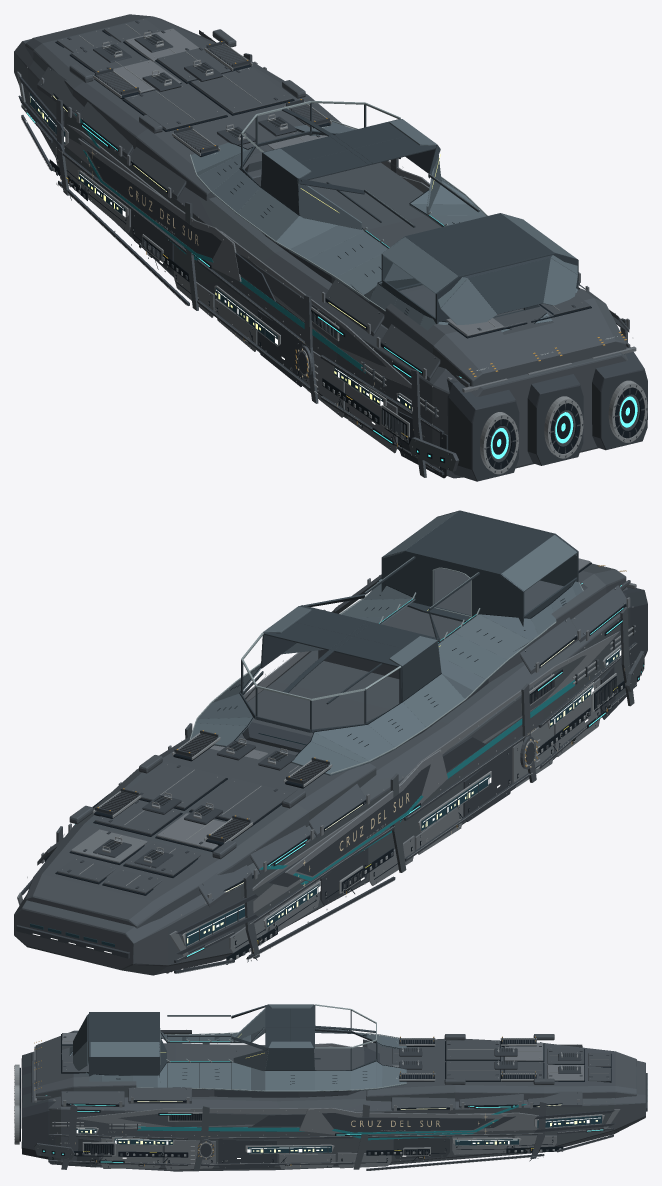
Rendered from cruz-del-sur-vestibule-envelope.glb.
3 renders of one model, top to bottom at view 1: azimuth 30°, elevation 25°; view 2: azimuth 150°, elevation 25°; view 3: azimuth 270°, elevation 25°, orthographic. The views are drawn at different scales.
Visible parts, largest first — view 1: UNIFIED_RUNTIME_lower-hull_SHIP_GAME_CDS_Ceramic graphite.00, UNIFIED_RUNTIME_lower-hull_SHIP_GAME_CDS_Dark armor.002, UNIFIED_RUNTIME_lower-hull_SHIP_GAME_CDS_Titanium armor.002, UNIFIED_RUNTIME_bridge_UNIFIED_Blue titanium_closed solids, UNIFIED_RUNTIME_arrival_UNIFIED_Graphite ceramic_closed soli, UNIFIED_RUNTIME_bridge_UNIFIED_Graphite ceramic_closed solid, UNIFIED_RUNTIME_lower-hull_SHIP_GAME_CDS_Deep recess.002, UNIFIED_RUNTIME_lower-hull_SHIP_GAME_CDS_Machined edges.002, UNIFIED_RUNTIME_arrival_UNIFIED_Blue titanium_closed solids, UNIFIED_RUNTIME_connector_UNIFIED_Blue titanium_closed solid, UNIFIED_RUNTIME_lower-hull_SHIP_GAME_CDS_Smoked sapphire gla, UNIFIED_RUNTIME_arrival_UNIFIED_Graphite ceramic (+3 smaller); view 2: UNIFIED_RUNTIME_lower-hull_SHIP_GAME_CDS_Ceramic graphite.00, UNIFIED_RUNTIME_lower-hull_SHIP_GAME_CDS_Dark armor.002, UNIFIED_RUNTIME_lower-hull_SHIP_GAME_CDS_Titanium armor.002, UNIFIED_RUNTIME_bridge_UNIFIED_Blue titanium_closed solids, UNIFIED_RUNTIME_bridge_UNIFIED_Graphite ceramic_closed solid, UNIFIED_RUNTIME_arrival_UNIFIED_Graphite ceramic_closed soli, UNIFIED_RUNTIME_arrival_UNIFIED_Graphite ceramic, UNIFIED_RUNTIME_connector_UNIFIED_Blue titanium_closed solid, UNIFIED_RUNTIME_lower-hull_SHIP_GAME_CDS_Deep recess.002, UNIFIED_RUNTIME_lower-hull_SHIP_GAME_CDS_Machined edges.002, UNIFIED_RUNTIME_arrival_UNIFIED_Blue titanium_closed solids, UNIFIED_RUNTIME_lower-hull_SHIP_GAME_CDS_Smoked sapphire gla (+2 smaller); view 3: UNIFIED_RUNTIME_lower-hull_SHIP_GAME_CDS_Ceramic graphite.00, UNIFIED_RUNTIME_lower-hull_SHIP_GAME_CDS_Dark armor.002, UNIFIED_RUNTIME_lower-hull_SHIP_GAME_CDS_Titanium armor.002, UNIFIED_RUNTIME_bridge_UNIFIED_Blue titanium_closed solids, UNIFIED_RUNTIME_lower-hull_SHIP_GAME_CDS_Machined edges.002, UNIFIED_RUNTIME_lower-hull_SHIP_GAME_CDS_Deep recess.002, UNIFIED_RUNTIME_arrival_UNIFIED_Graphite ceramic_closed soli, UNIFIED_RUNTIME_bridge_UNIFIED_Graphite ceramic_closed solid, UNIFIED_RUNTIME_connector_UNIFIED_Blue titanium_closed solid, UNIFIED_RUNTIME_arrival_UNIFIED_Blue titanium_closed solids, UNIFIED_RUNTIME_lower-hull_SHIP_GAME_CDS_Smoked sapphire gla, UNIFIED_RUNTIME_lower-hull_SHIP_GAME_CDS_Petrol livery.002 (+7 smaller).
Boxes of the visible parts, x1,y1,x2,y2 form: UNIFIED_RUNTIME_lower-hull_SHIP_GAME_CDS_Ceramic graphite.00: (14,14,644,478); UNIFIED_RUNTIME_lower-hull_SHIP_GAME_CDS_Dark armor.002: (18,20,647,481); UNIFIED_RUNTIME_lower-hull_SHIP_GAME_CDS_Titanium armor.002: (17,28,636,453); UNIFIED_RUNTIME_bridge_UNIFIED_Blue titanium_closed solids: (191,119,485,260); UNIFIED_RUNTIME_arrival_UNIFIED_Graphite ceramic_closed soli: (382,213,553,322); UNIFIED_RUNTIME_bridge_UNIFIED_Graphite ceramic_closed solid: (240,103,440,222); UNIFIED_RUNTIME_lower-hull_SHIP_GAME_CDS_Deep recess.002: (26,30,647,474); UNIFIED_RUNTIME_lower-hull_SHIP_GAME_CDS_Machined edges.002: (21,19,647,474); UNIFIED_RUNTIME_arrival_UNIFIED_Blue titanium_closed solids: (369,214,577,332); UNIFIED_RUNTIME_connector_UNIFIED_Blue titanium_closed solid: (306,215,486,301); UNIFIED_RUNTIME_lower-hull_SHIP_GAME_CDS_Smoked sapphire gla: (30,93,411,409); UNIFIED_RUNTIME_arrival_UNIFIED_Graphite ceramic: (381,213,578,323); UNIFIED_RUNTIME_lower-hull_SHIP_GAME_CDS_Ceramic graphite.00: (14,563,644,975); UNIFIED_RUNTIME_lower-hull_SHIP_GAME_CDS_Dark armor.002: (16,587,647,973); UNIFIED_RUNTIME_lower-hull_SHIP_GAME_CDS_Titanium armor.002: (17,558,636,955); UNIFIED_RUNTIME_bridge_UNIFIED_Blue titanium_closed solids: (191,606,486,775); UNIFIED_RUNTIME_bridge_UNIFIED_Graphite ceramic_closed solid: (240,594,441,732); UNIFIED_RUNTIME_arrival_UNIFIED_Graphite ceramic_closed soli: (379,511,577,630); UNIFIED_RUNTIME_arrival_UNIFIED_Graphite ceramic: (381,510,578,626); UNIFIED_RUNTIME_connector_UNIFIED_Blue titanium_closed solid: (341,581,538,680); UNIFIED_RUNTIME_lower-hull_SHIP_GAME_CDS_Deep recess.002: (44,562,643,964); UNIFIED_RUNTIME_lower-hull_SHIP_GAME_CDS_Machined edges.002: (27,561,644,973); UNIFIED_RUNTIME_arrival_UNIFIED_Blue titanium_closed solids: (379,511,582,634); UNIFIED_RUNTIME_lower-hull_SHIP_GAME_CDS_Smoked sapphire gla: (30,648,620,947); UNIFIED_RUNTIME_lower-hull_SHIP_GAME_CDS_Ceramic graphite.00: (31,1030,645,1171); UNIFIED_RUNTIME_lower-hull_SHIP_GAME_CDS_Dark armor.002: (21,1036,647,1171); UNIFIED_RUNTIME_lower-hull_SHIP_GAME_CDS_Titanium armor.002: (34,1033,620,1169); UNIFIED_RUNTIME_bridge_UNIFIED_Blue titanium_closed solids: (231,1004,406,1091); UNIFIED_RUNTIME_lower-hull_SHIP_GAME_CDS_Machined edges.002: (14,1029,612,1170); UNIFIED_RUNTIME_lower-hull_SHIP_GAME_CDS_Deep recess.002: (19,1034,611,1168); UNIFIED_RUNTIME_arrival_UNIFIED_Graphite ceramic_closed soli: (73,1012,166,1075); UNIFIED_RUNTIME_bridge_UNIFIED_Graphite ceramic_closed solid: (231,1004,377,1070); UNIFIED_RUNTIME_connector_UNIFIED_Blue titanium_closed solid: (158,1031,231,1090); UNIFIED_RUNTIME_arrival_UNIFIED_Blue titanium_closed solids: (69,1023,159,1087); UNIFIED_RUNTIME_lower-hull_SHIP_GAME_CDS_Smoked sapphire gla: (76,1074,647,1153); UNIFIED_RUNTIME_lower-hull_SHIP_GAME_CDS_Petrol livery.002: (137,1104,526,1140).
Bounding box in the file's own units: 16.06 × 13.23 × 59.83.
